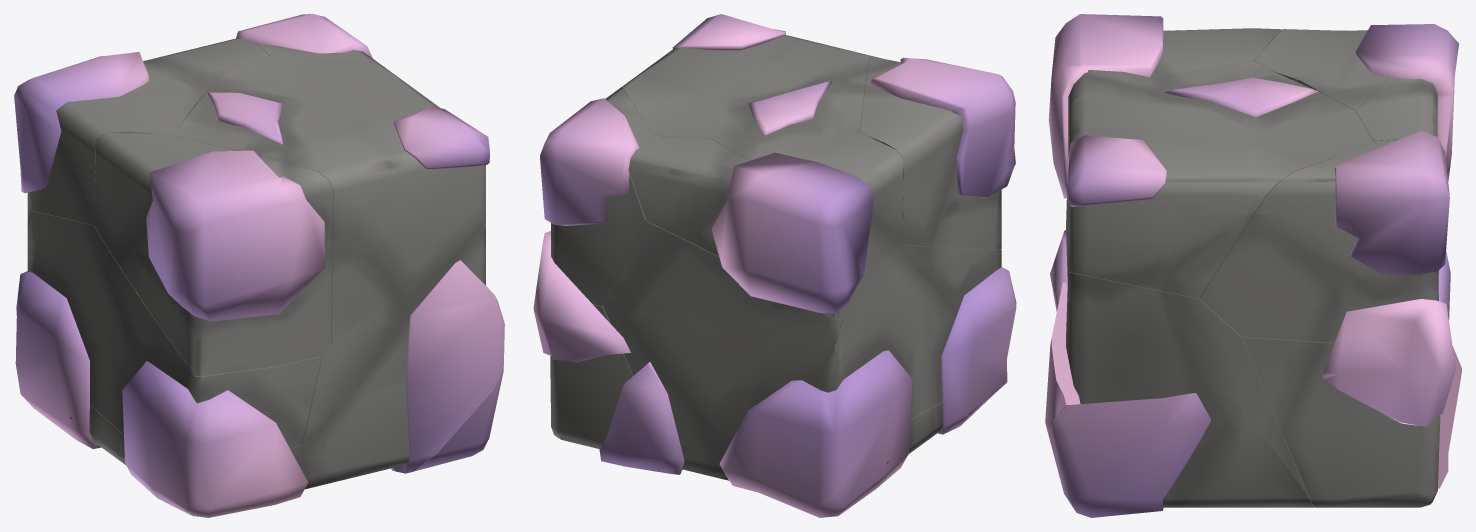
File: RoseQuartz.fbx
The picture shows the model from 3 angles, left to right: view 1: azimuth 30°, elevation 25°; view 2: azimuth 150°, elevation 25°; view 3: azimuth 270°, elevation 25°; orthographic projection. The views are drawn at different scales.
Visible parts, largest first — view 1: Cube_Parts.066, Ore.061, Cube_Parts.062, Cube_Parts.063, Ore.051, Cube_Parts.069, Ore.068, Cube_Parts.065, Ore.065, Ore.066, Ore.064, Ore.063 (+5 smaller); view 2: Cube_Parts.060, Ore.065, Ore.066, Cube_Parts.066, Cube_Parts.063, Cube_Parts.062, Ore.061, Ore.063, Cube_Parts.068, Cube_Parts.065, Ore.051, Cube_Parts.061 (+6 smaller); view 3: Cube_Parts.066, Cube_Parts.069, Cube_Parts.061, Cube_Parts.067, Ore.067, Ore.063, Ore.070, Ore.061, Cube_Parts.065, Ore.066, Ore.064, Cube_Parts.062 (+6 smaller).
Boxes of the visible parts, x1,y1,x2,y2 form: Cube_Parts.066: [171, 55, 485, 342]; Ore.061: [146, 150, 324, 321]; Cube_Parts.062: [94, 132, 333, 376]; Cube_Parts.063: [27, 210, 321, 449]; Ore.051: [122, 361, 308, 517]; Cube_Parts.069: [301, 226, 485, 489]; Ore.068: [393, 260, 504, 473]; Cube_Parts.065: [27, 71, 225, 225]; Ore.065: [15, 271, 101, 448]; Ore.066: [14, 52, 148, 193]; Ore.064: [393, 106, 489, 168]; Ore.063: [236, 14, 372, 58]; Cube_Parts.060: [603, 221, 841, 479]; Ore.065: [719, 350, 912, 517]; Ore.066: [711, 152, 873, 313]; Cube_Parts.066: [622, 35, 869, 139]; Cube_Parts.063: [815, 245, 1001, 419]; Cube_Parts.062: [859, 55, 1001, 249]; Ore.061: [869, 57, 1015, 197]; Ore.063: [540, 98, 639, 225]; Cube_Parts.068: [628, 135, 833, 316]; Cube_Parts.065: [713, 132, 903, 319]; Ore.051: [938, 267, 1016, 434]; Cube_Parts.061: [551, 87, 652, 306]; Cube_Parts.066: [1066, 61, 1372, 299]; Cube_Parts.069: [1066, 272, 1313, 507]; Cube_Parts.061: [1200, 139, 1438, 342]; Cube_Parts.067: [1242, 337, 1440, 507]; Ore.067: [1049, 393, 1210, 517]; Ore.063: [1334, 130, 1449, 274]; Ore.070: [1321, 299, 1455, 426]; Ore.061: [1048, 14, 1163, 198]; Cube_Parts.065: [1254, 29, 1390, 110]; Ore.066: [1355, 24, 1458, 180]; Ore.064: [1067, 135, 1166, 206]; Cube_Parts.062: [1068, 28, 1281, 112].
Bounding box in the file's own units: 219 × 216 × 226.
